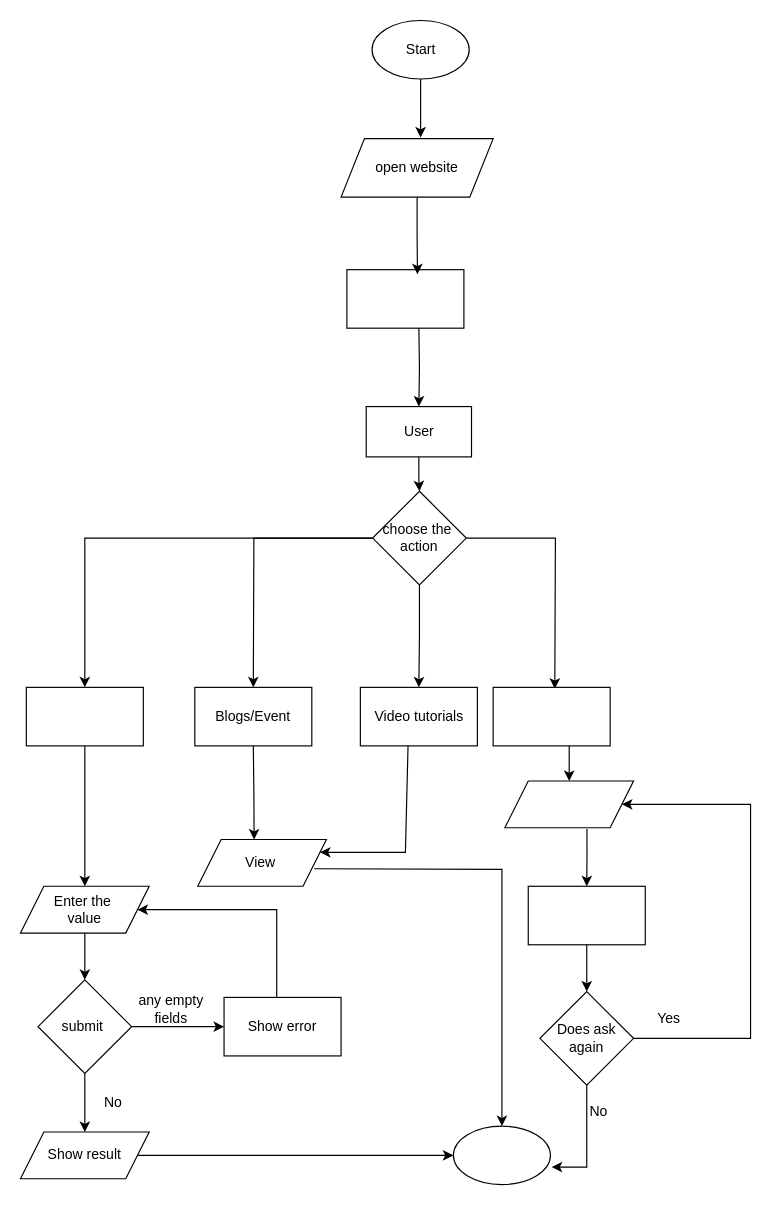
Image size: 780x1205. Some labels were removed from this diagram. The shapes that lost their labels are listed below. From the top down, each one's centre as x and y in pixels, then its label:
the point at 405,298: Login/Register
the point at 84,716: Forecast form page
the point at 551,716: Chatbot
the point at 569,804: Enter the query & submit
the point at 586,915: Generate the response
the point at 501,1155: end
